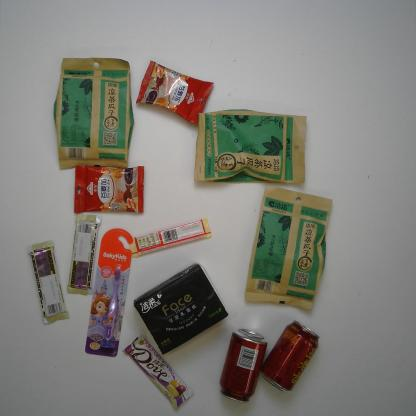Chocolate: (121, 332, 192, 408), (122, 216, 212, 258), (28, 241, 69, 327), (66, 212, 103, 297)
Dried Food: (244, 180, 334, 311), (52, 56, 135, 170), (192, 108, 309, 186)
Drink: (260, 320, 321, 394), (218, 327, 269, 404)
Instant Drink: (137, 60, 216, 125), (71, 164, 147, 215)
Personal Hygiene: (82, 228, 135, 359)
Tissue: (132, 261, 230, 354)
